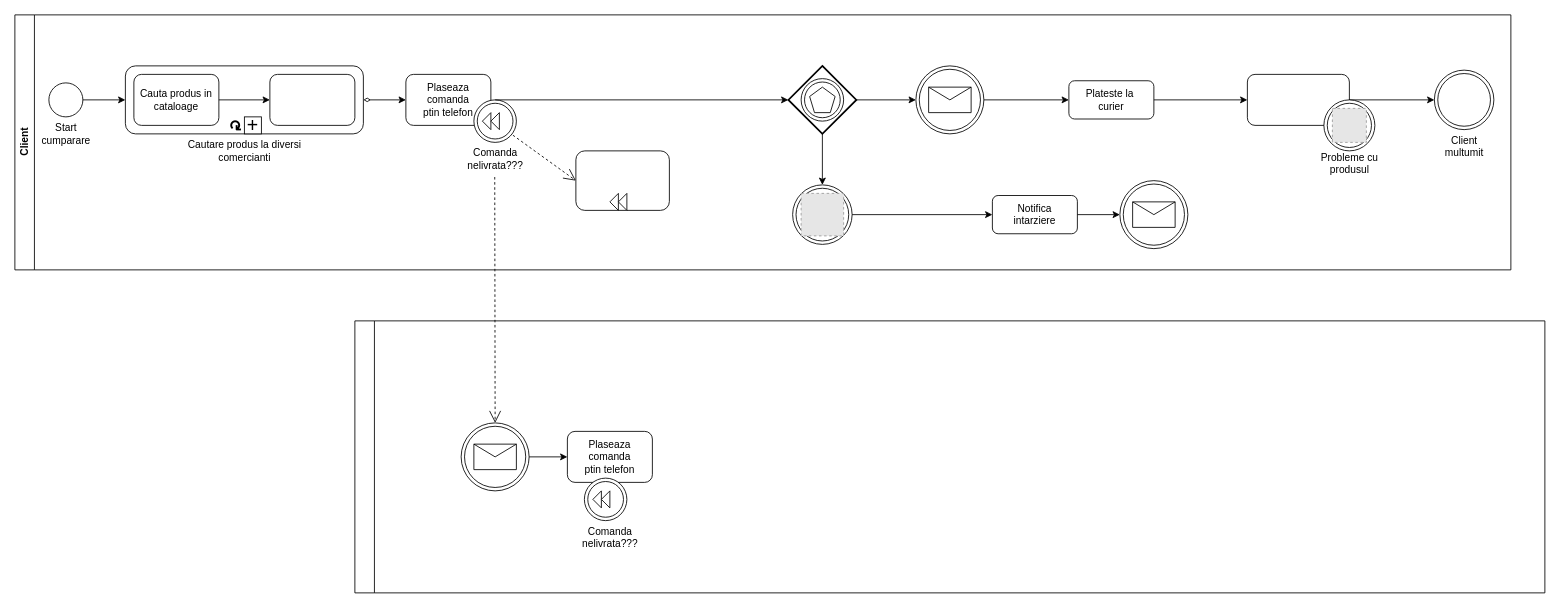
Some shapes in this 1560 by 608 pixel diagram are drawn without their labels. Grey dashed boxes stand in for pictures. The shapes that lost their labels are listed below. From the top down, each one's box as (x1, y1, x2, y2) in pixels, then its label:
(269, 74, 355, 125): Consulta detalii si pret
(1247, 74, 1349, 125): Foloseste produs
(575, 150, 669, 210): Anulare comanda (la comerciant) .
(354, 320, 1545, 593): Comerciant
